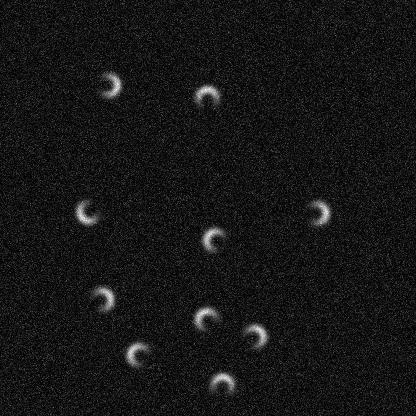Janus: (301, 197, 331, 227), (200, 225, 230, 255), (238, 321, 268, 351), (92, 69, 122, 99), (86, 284, 116, 314), (124, 339, 154, 369), (207, 370, 237, 400), (73, 196, 103, 226), (192, 83, 222, 113), (191, 304, 221, 334)
